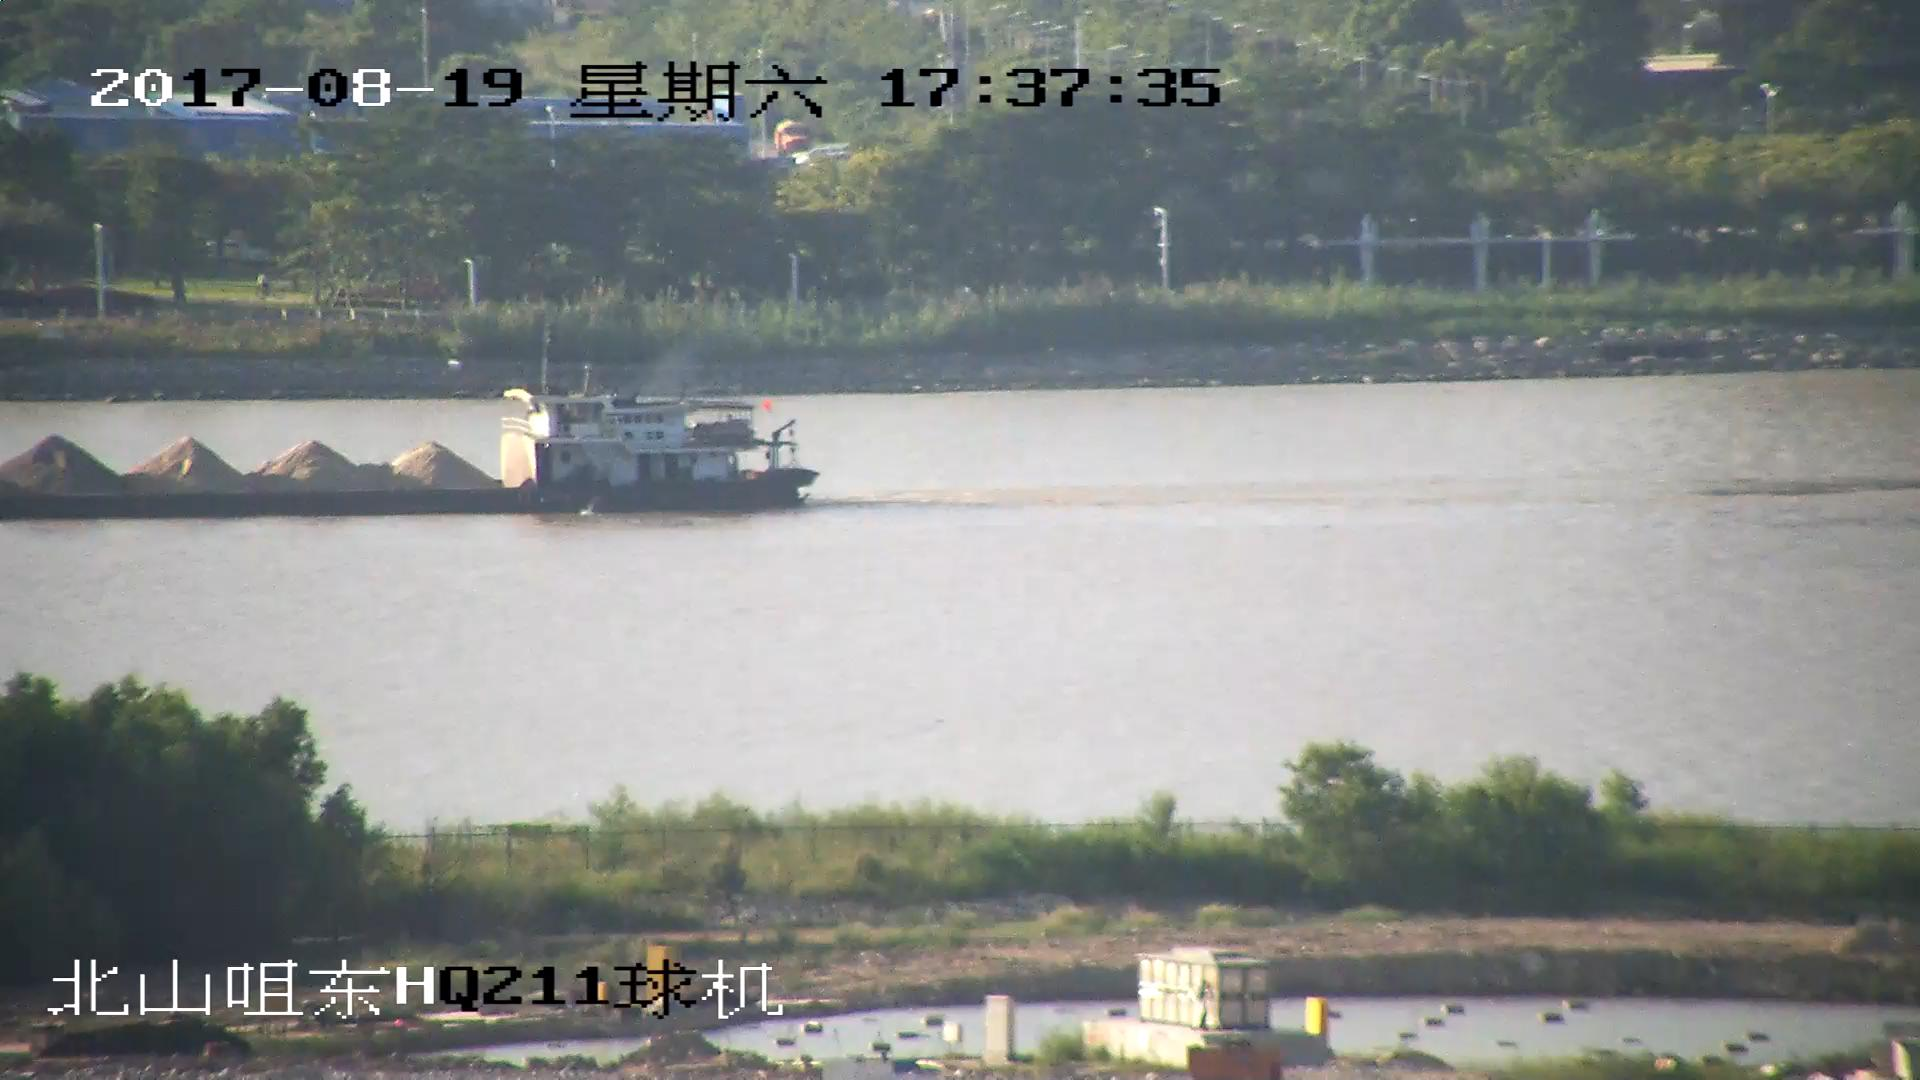ore carrier: (1, 329, 816, 518)
